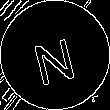N_N: (29, 26, 81, 84)
